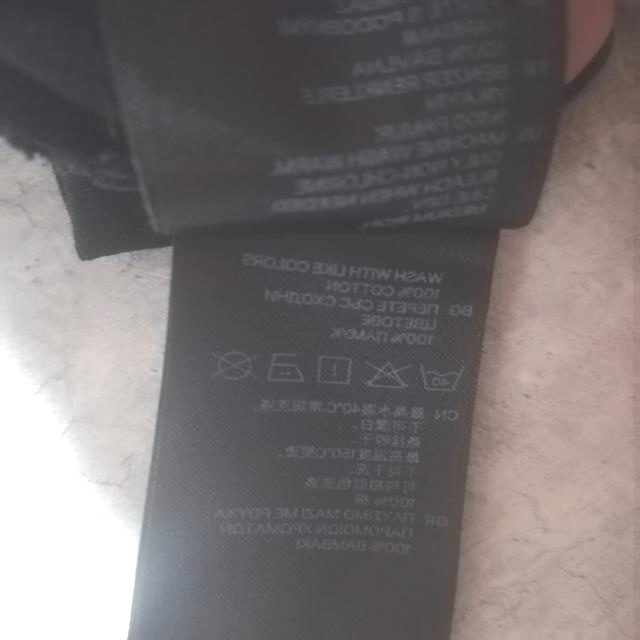40C: (416, 357, 462, 394)
DN_bleach: (361, 356, 409, 395)
DN_dry_clean: (206, 346, 261, 386)
iron_medium: (264, 350, 306, 388)
